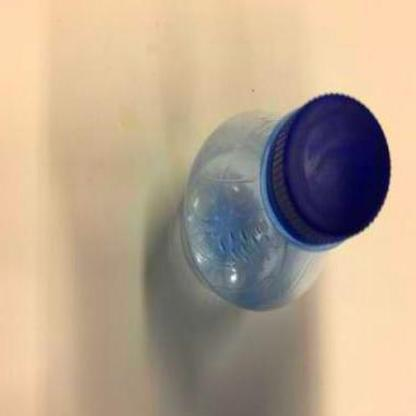plastic bottle: (179, 93, 391, 313)
